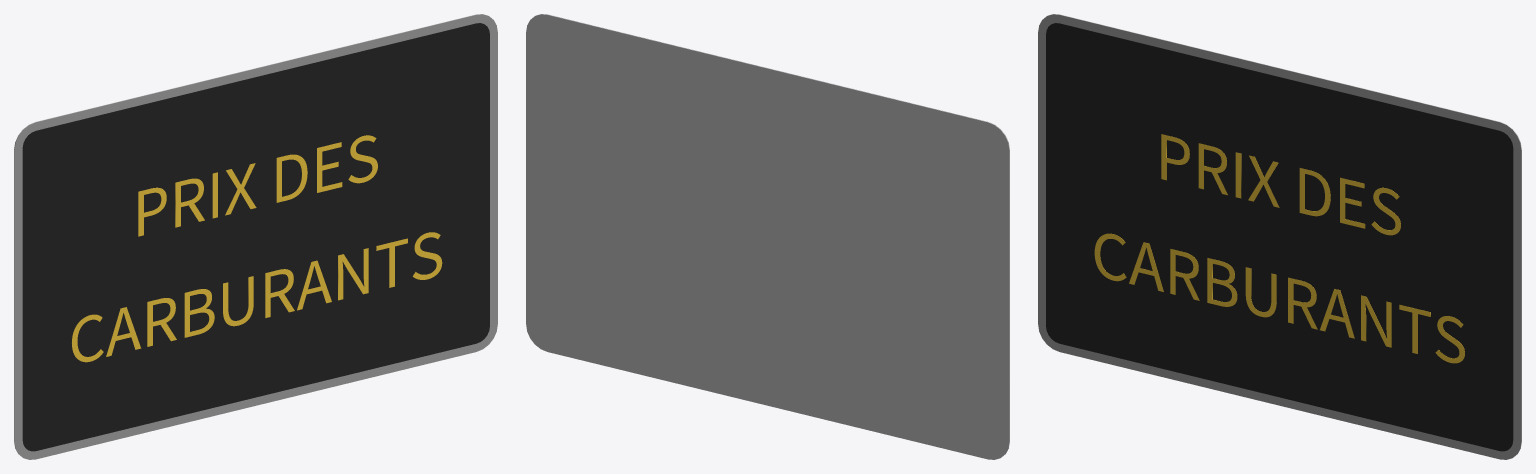
File: XCE15h.glb
The picture shows the model from 3 angles, left to right: view 1: azimuth 30°, elevation 25°; view 2: azimuth 150°, elevation 25°; view 3: azimuth 330°, elevation 25°; orthographic projection.
Parts seen in each view (by area): view 1: XCE15h_r01, XCE15h_r00, XCE15h_txt03, XCE15h_txt02, XCE15h_dos; view 2: XCE15h_dos, XCE15h_r00; view 3: XCE15h_r01, XCE15h_r00, XCE15h_txt03, XCE15h_txt02, XCE15h_dos.
Boxes of the visible parts, left/top/right/bottom form: XCE15h_r01: left=22, top=23, right=489, bottom=451; XCE15h_r00: left=14, top=14, right=497, bottom=459; XCE15h_txt03: left=71, top=232, right=442, bottom=362; XCE15h_txt02: left=138, top=135, right=377, bottom=236; XCE15h_dos: left=14, top=14, right=487, bottom=452; XCE15h_dos: left=526, top=14, right=1009, bottom=459; XCE15h_r00: left=542, top=14, right=1009, bottom=448; XCE15h_r01: left=1046, top=23, right=1513, bottom=451; XCE15h_r00: left=1038, top=14, right=1521, bottom=459; XCE15h_txt03: left=1094, top=233, right=1464, bottom=363; XCE15h_txt02: left=1161, top=134, right=1400, bottom=235; XCE15h_dos: left=1048, top=14, right=1521, bottom=452.
Size of the model in its own units: 0.9 by 0.6 by 0.0029.
